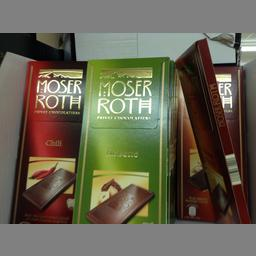chocolate: (72, 57, 169, 222), (170, 36, 250, 220), (7, 60, 87, 222)
